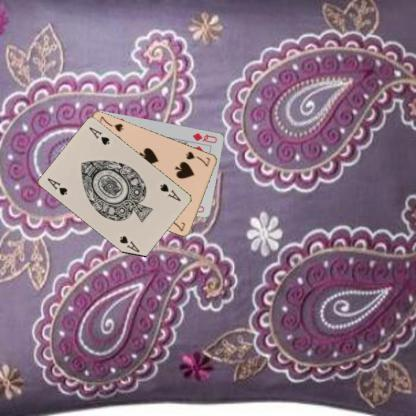7s: (184, 148, 211, 167)
As: (158, 181, 182, 203), (45, 176, 69, 197)
Qd: (190, 130, 218, 144)
